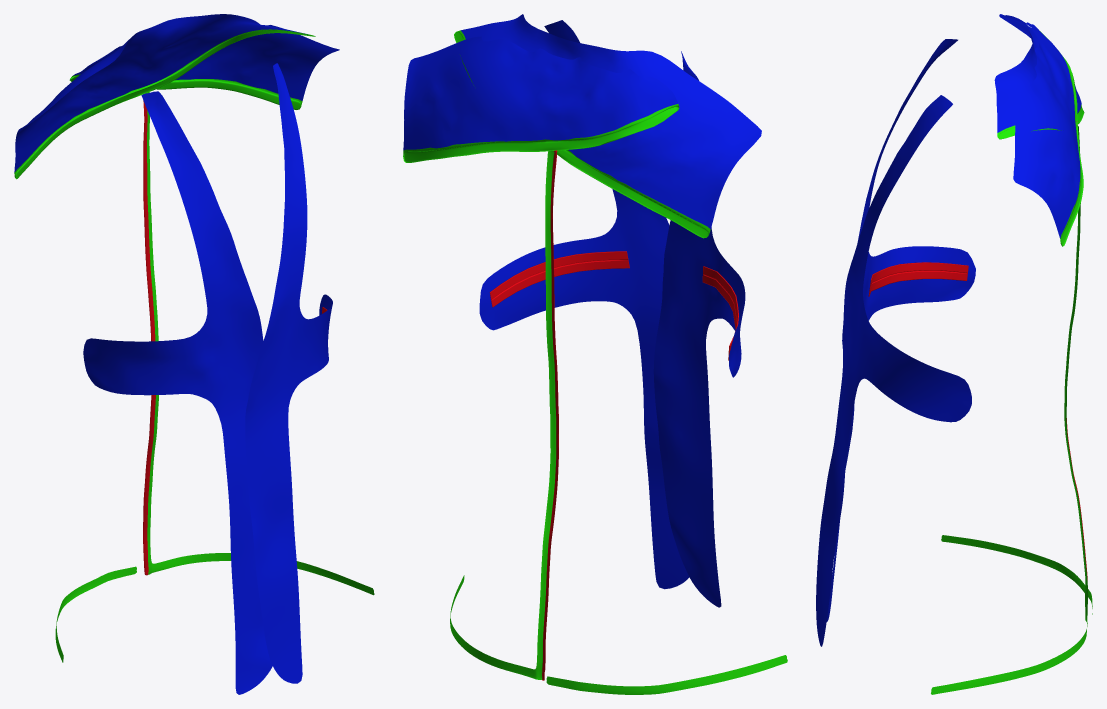
File: unlined_centre_vent.glb
The picture shows the model from 3 angles, left to right: view 1: azimuth 30°, elevation 25°; view 2: azimuth 150°, elevation 25°; view 3: azimuth 270°, elevation 25°; orthographic projection. The views are drawn at different scales.
Parts seen in each view (by area): view 1: secondary_01, tertiary_01, primary_01; view 2: secondary_01, tertiary_01, primary_01; view 3: secondary_01, tertiary_01, primary_01.
Part boxes in pixels (x1,y1,x2,y2): secondary_01: (14, 14, 339, 694); tertiary_01: (14, 29, 374, 662); primary_01: (143, 101, 327, 575); secondary_01: (403, 14, 761, 607); tertiary_01: (403, 30, 787, 694); primary_01: (489, 150, 738, 680); secondary_01: (816, 14, 1081, 646); tertiary_01: (931, 31, 1092, 694); primary_01: (868, 121, 1087, 579).
Bounding box in the file's own units: 41.21 × 72.63 × 30.57.
